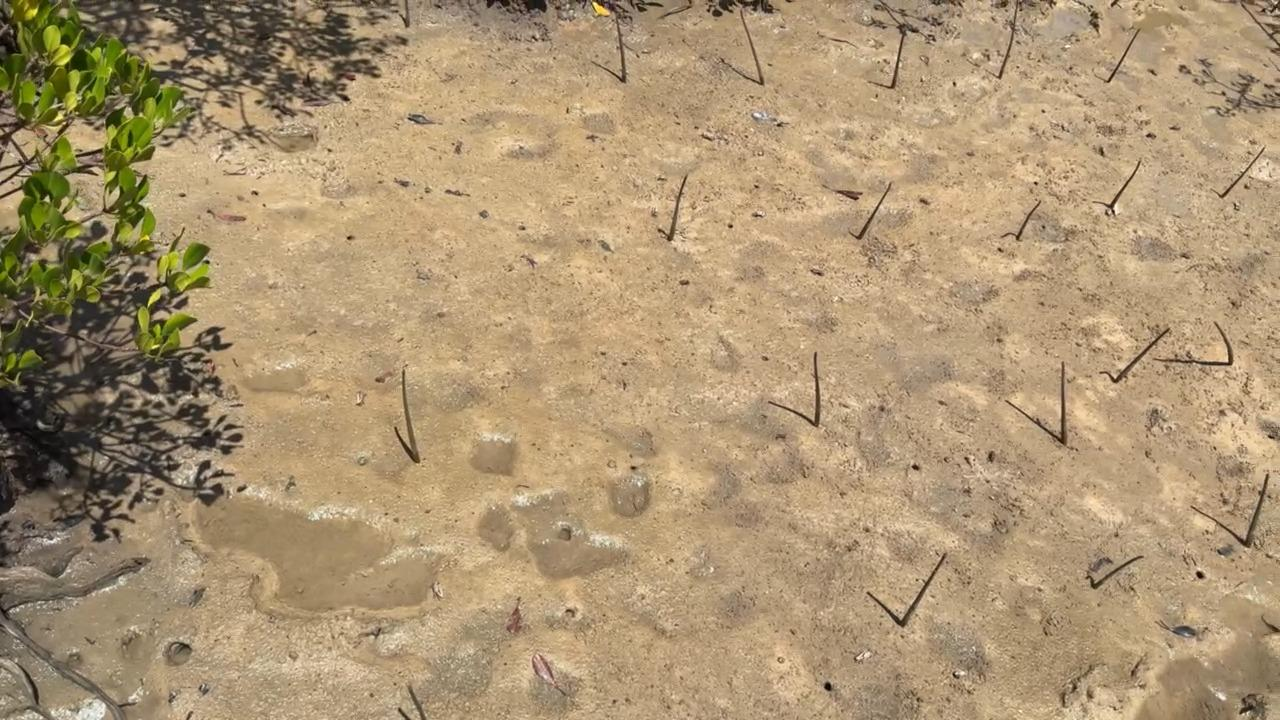Tree: (1099, 328, 1170, 384), (900, 553, 948, 626), (1219, 147, 1266, 198), (1086, 556, 1145, 589), (1106, 28, 1142, 82), (857, 182, 891, 239), (400, 369, 420, 461), (740, 9, 764, 85), (1245, 473, 1269, 548), (1001, 200, 1042, 240), (999, 0, 1019, 80), (1110, 160, 1141, 209), (667, 174, 688, 242), (612, 0, 626, 82), (891, 24, 906, 89), (1214, 321, 1233, 365), (1060, 360, 1069, 445), (406, 683, 426, 720), (813, 352, 821, 426), (403, 0, 410, 27)
